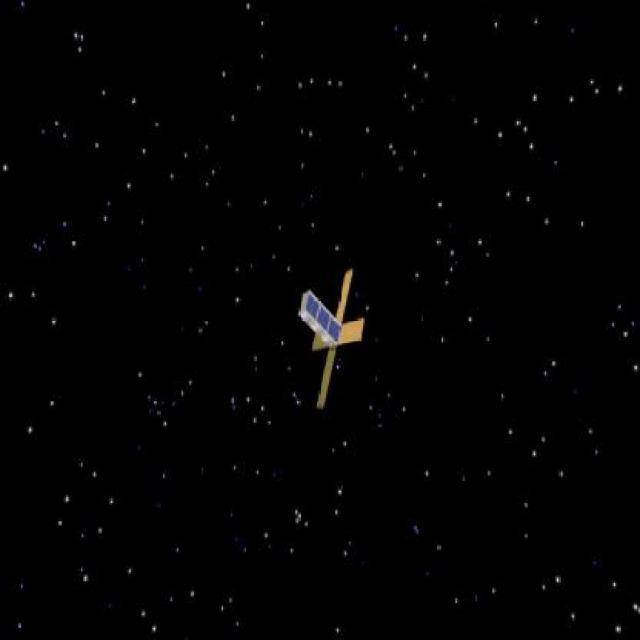medium_debris: (270, 262, 388, 416)
